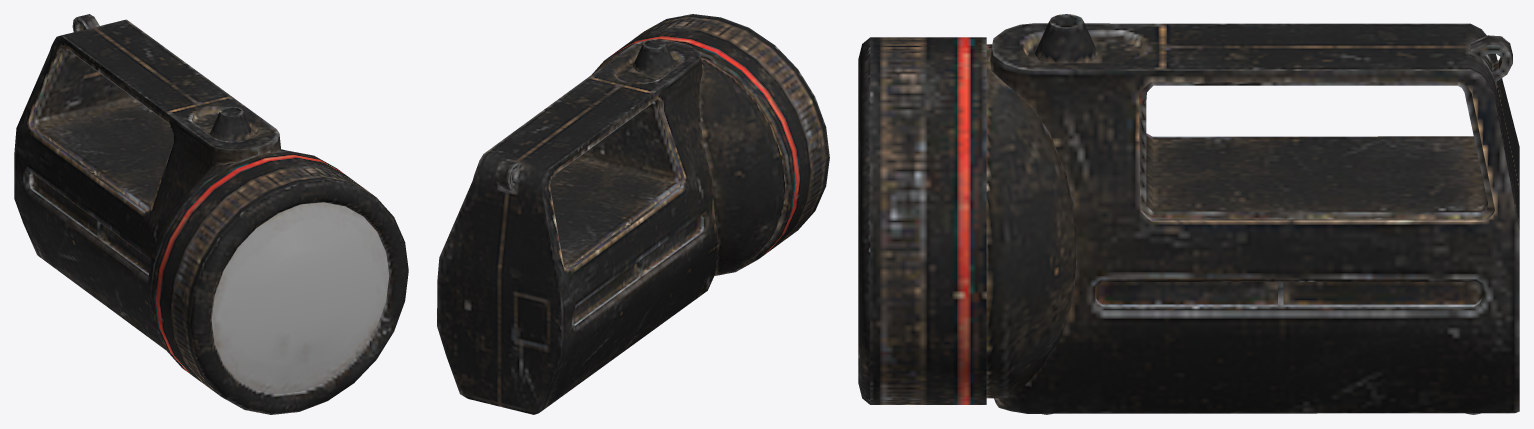
Rendered from 045_FlashLight.fbx.
The picture shows the model from 3 angles, left to right: view 1: azimuth 30°, elevation 25°; view 2: azimuth 150°, elevation 25°; view 3: azimuth 270°, elevation 25°; orthographic projection. The views are drawn at different scales.
Parts seen in each view (by area): view 1: LOD_1_Group_1_Sub_1__sm31_045_FlashLight01A_A_Mat1, LOD_1_Group_0_Sub_1__sm31_045_FlashLight01A_A_Mat1; view 2: LOD_1_Group_1_Sub_1__sm31_045_FlashLight01A_A_Mat1; view 3: LOD_1_Group_1_Sub_1__sm31_045_FlashLight01A_A_Mat1.
Boxes of the visible parts, x1=… form: LOD_1_Group_1_Sub_1__sm31_045_FlashLight01A_A_Mat1: x1=14, y1=14, x2=408, y2=414; LOD_1_Group_0_Sub_1__sm31_045_FlashLight01A_A_Mat1: x1=211, y1=202, x2=389, y2=394; LOD_1_Group_1_Sub_1__sm31_045_FlashLight01A_A_Mat1: x1=437, y1=14, x2=829, y2=414; LOD_1_Group_1_Sub_1__sm31_045_FlashLight01A_A_Mat1: x1=858, y1=14, x2=1519, y2=414.
Size of the model in its own units: 0.159 by 0.1784 by 0.2851.
